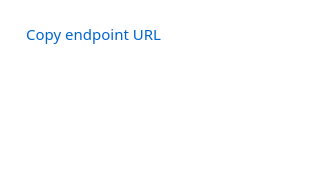
Test: CopyEndpoint › copies the MCP URL and reports a blocked clipboard
Later steps or results of the test are not shown.
Step 1. Click the button "Copy endpoint URL" → [93, 34], box [12,12,175,56]
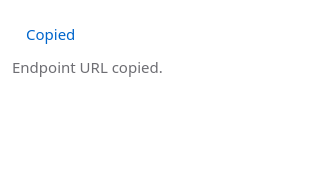
Now the text "Copied" is shown, box [12,12,89,56]
